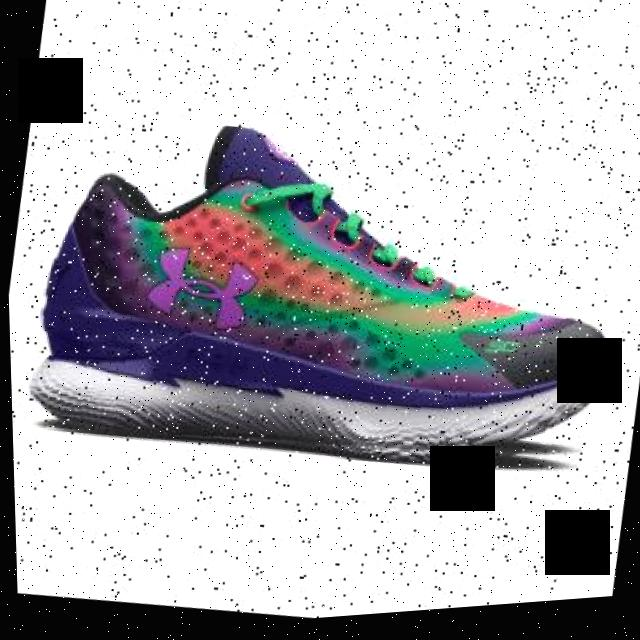shoe: (16, 80, 640, 518)
